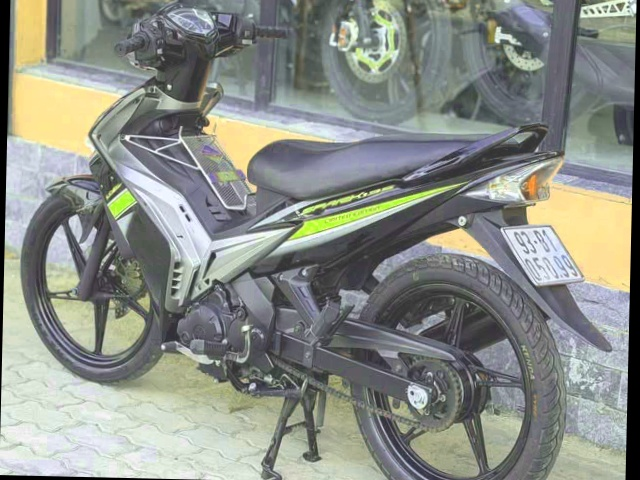Bien-so: (501, 224, 591, 290)
